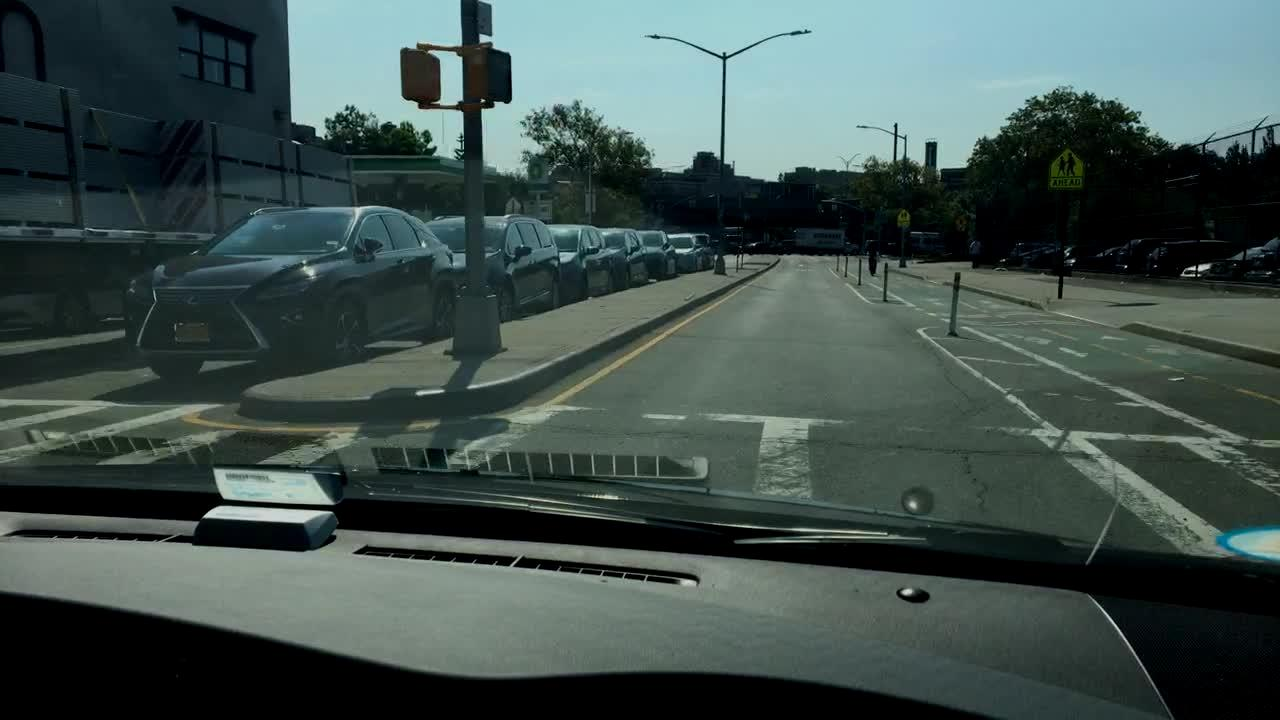lexus: (179, 288, 200, 314)
